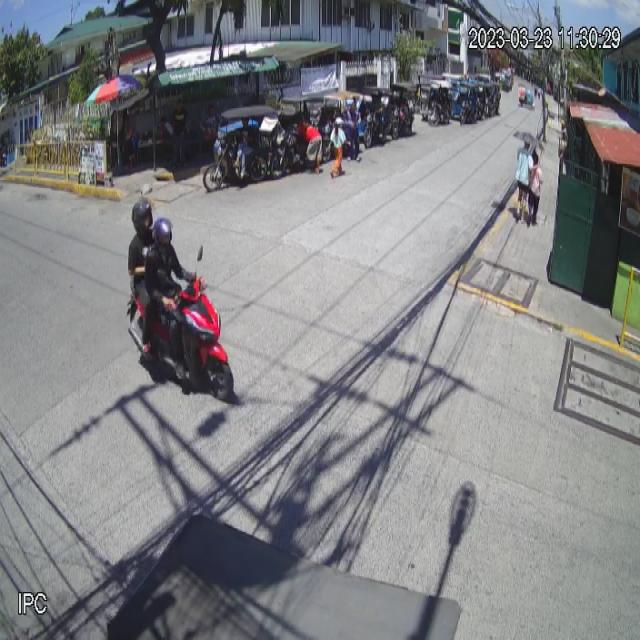Motorcycle: (129, 244, 234, 408)
